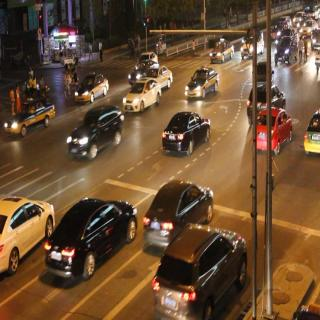Car: (42, 195, 134, 282), (155, 233, 246, 314), (0, 170, 55, 286), (138, 178, 215, 235), (72, 104, 125, 162), (164, 110, 213, 160), (251, 106, 292, 155), (6, 100, 56, 135), (182, 62, 225, 101), (122, 81, 162, 110), (248, 81, 284, 110), (75, 75, 108, 102), (302, 105, 320, 149), (275, 32, 296, 64), (207, 35, 233, 59), (243, 32, 263, 59), (251, 60, 273, 83), (144, 66, 170, 82), (127, 61, 150, 79)
